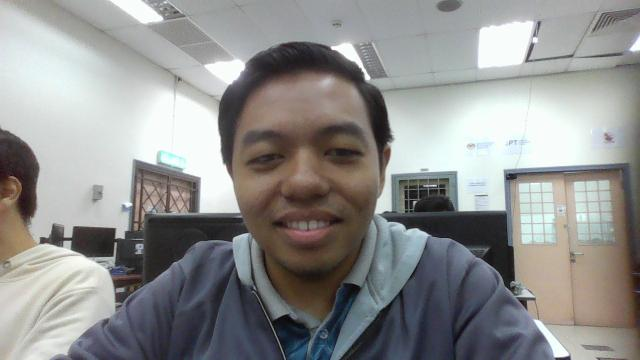senang: (212, 37, 402, 273)
